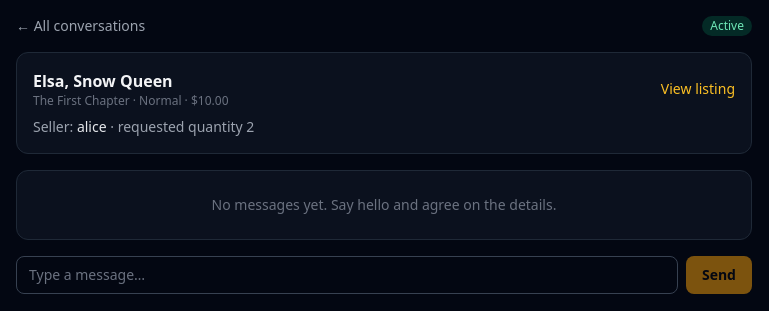
it: MarketplaceChatThreadPage › sends a message on an active thread (REQ-13)
The width and height of the screenshot is (769, 311).
Type "Sounds good" into the field with placeholder "Type a message…" at (347, 275), box [16, 256, 678, 294]
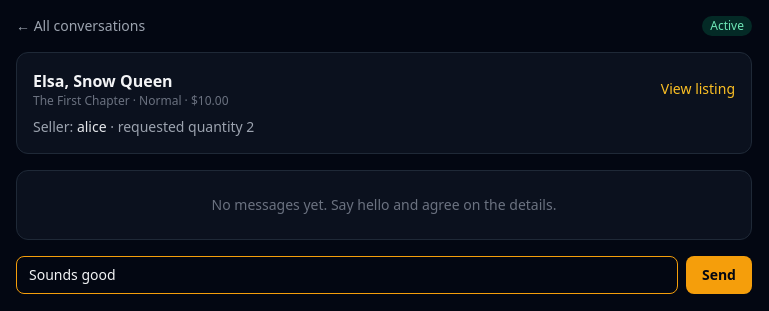
Click the button "Send" at (719, 275), box [686, 256, 752, 294]
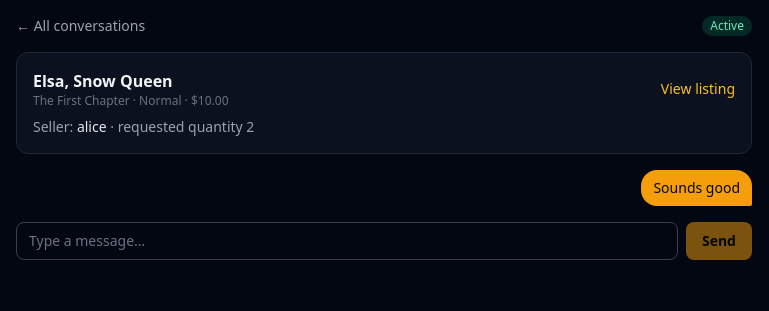
Expected: the text "Sounds good" is shown, [641, 170, 752, 206]
